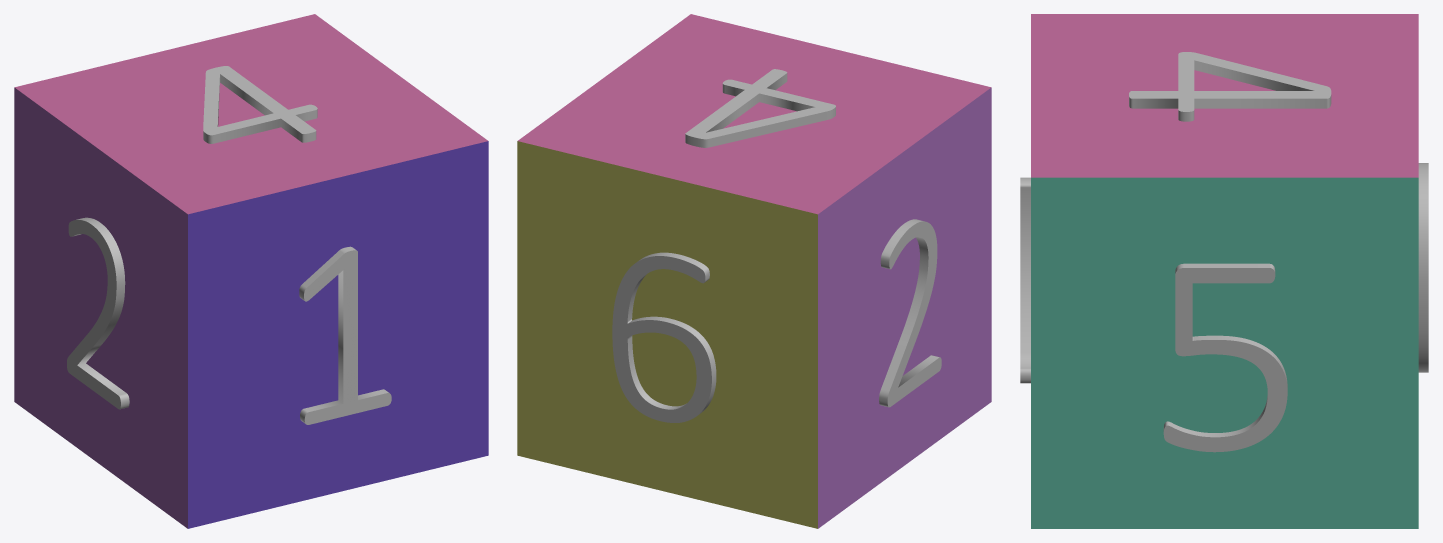
Rendered from cube_with_numbers.fbx.
The picture shows the model from 3 angles, left to right: view 1: azimuth 30°, elevation 25°; view 2: azimuth 150°, elevation 25°; view 3: azimuth 270°, elevation 25°; orthographic projection. The views are drawn at different scales.
Parts seen in each view (by area): view 1: Cube, 1, 4, 2; view 2: Cube, 6, 4, 2; view 3: Cube, 5, 4, 6, 1.
Boxes of the visible parts, x1,y1,x2,y2 form: Cube: [14, 14, 488, 528]; 1: [299, 246, 391, 424]; 4: [203, 66, 317, 143]; 2: [67, 217, 129, 409]; Cube: [517, 14, 991, 528]; 6: [612, 252, 716, 422]; 4: [685, 69, 835, 147]; 2: [879, 219, 941, 407]; Cube: [1031, 14, 1418, 528]; 5: [1163, 263, 1287, 452]; 4: [1129, 52, 1331, 121]; 6: [1418, 163, 1428, 372]; 1: [1020, 177, 1030, 383].
Size of the model in its own units: 211 by 211 by 211.
